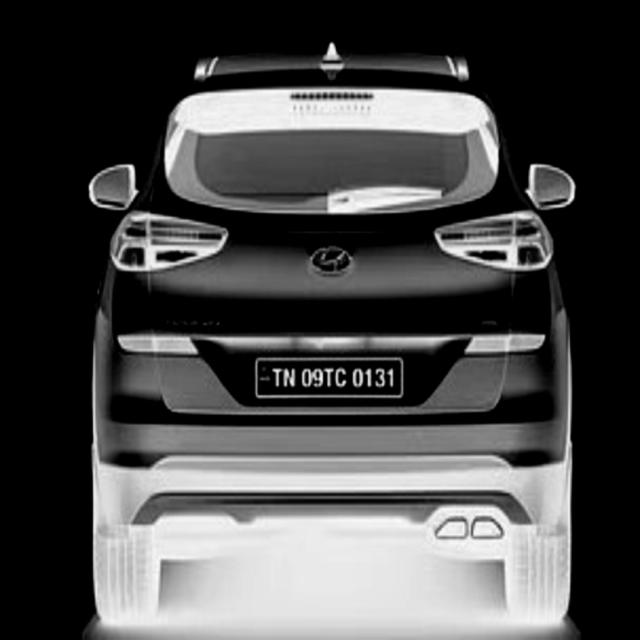0: (351, 366, 364, 392), (301, 366, 312, 389)
1: (387, 365, 395, 391), (365, 366, 373, 388)
3: (375, 368, 386, 388)
9: (313, 368, 323, 388)
C: (335, 366, 348, 390)
IND: (258, 363, 272, 384)
Indian_registered: (258, 358, 402, 396)
N: (283, 366, 297, 388)
T: (324, 366, 334, 392), (273, 366, 283, 388)
